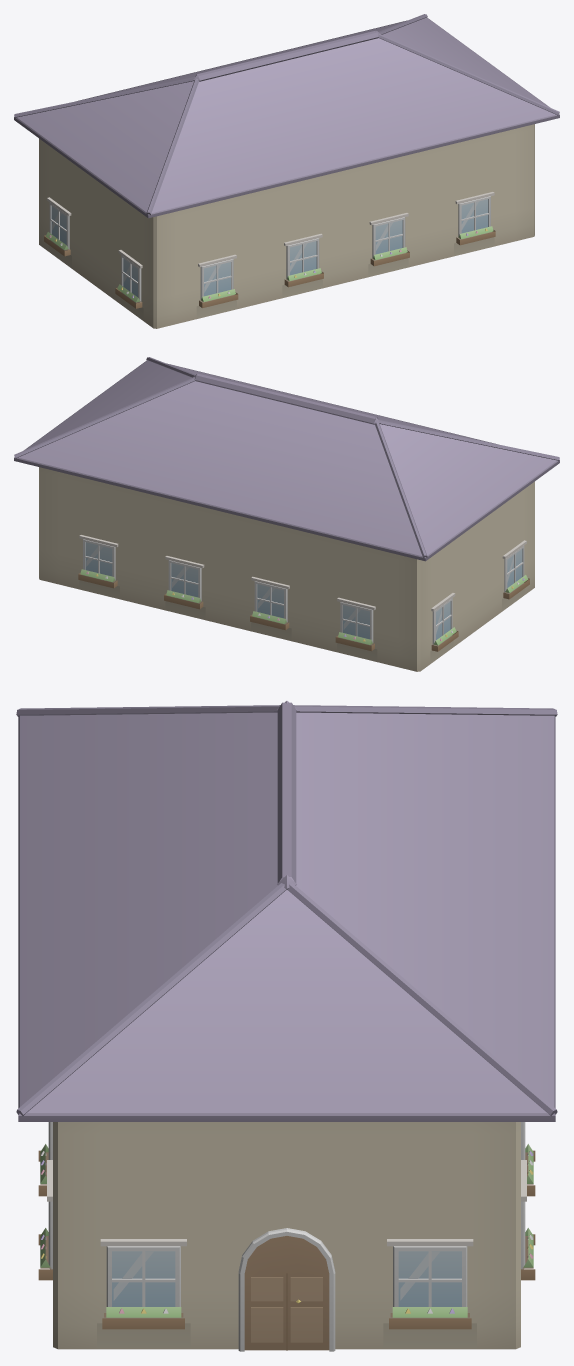
Rendered from rumahguru1_shell.glb.
3 renders of one model, top to bottom at view 1: azimuth 30°, elevation 25°; view 2: azimuth 150°, elevation 25°; view 3: azimuth 270°, elevation 25°, orthographic. The views are drawn at different scales.
Parts seen in each view (by area): view 1: rumahguru1_roof, rumahguru1_body; view 2: rumahguru1_roof, rumahguru1_body; view 3: rumahguru1_roof, rumahguru1_body.
Part boxes in pixels (x1,y1,x2,y2): rumahguru1_roof: [14, 14, 559, 218]; rumahguru1_body: [39, 124, 534, 328]; rumahguru1_roof: [14, 357, 559, 561]; rumahguru1_body: [39, 467, 534, 671]; rumahguru1_roof: [16, 701, 557, 1121]; rumahguru1_body: [38, 1122, 535, 1351].
Size of the model in its own units: 17.33 by 7.52 by 9.83.
